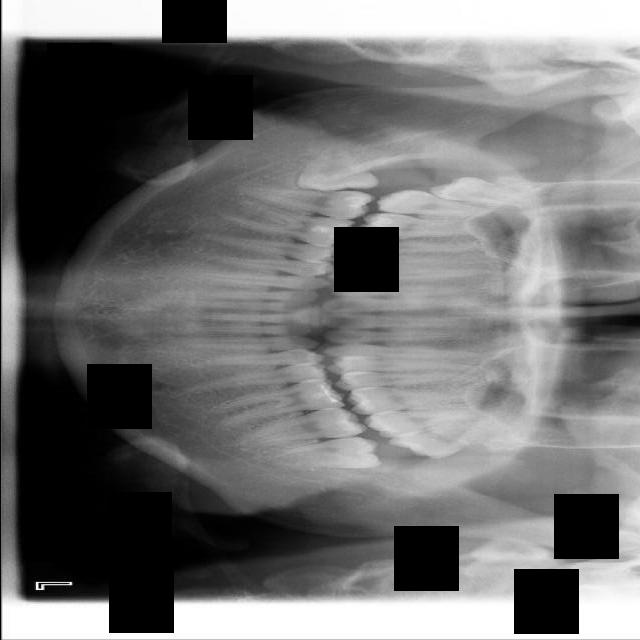3M ESPE Implant: (427, 173, 552, 212)
52: (345, 383, 403, 418), (303, 214, 355, 251), (361, 410, 424, 439), (295, 377, 345, 412), (309, 408, 366, 438), (324, 188, 374, 222), (355, 212, 409, 240)
73: (14, 618, 32, 628)
BioHorizons Implant: (361, 405, 494, 440)
BioLife Implant: (385, 410, 510, 469)
Biomet 3i Implant: (265, 434, 382, 469)
Blue Sky Bio Implant: (234, 404, 368, 448)
Caries: (374, 187, 506, 220)
Implant: (237, 184, 376, 221)
Keystone Dental Implant: (294, 141, 379, 194)
